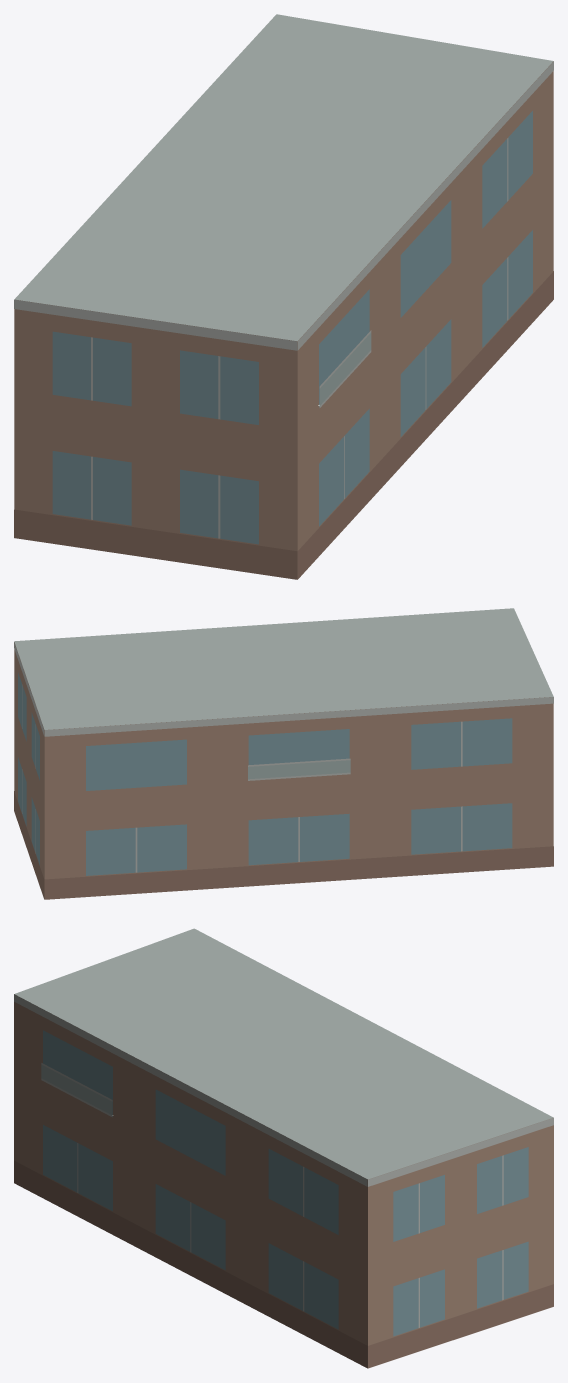
The model's file is survey-upis-32971139.glb.
3 views of the same model, one above another, from view 1: azimuth 30°, elevation 25°; view 2: azimuth 150°, elevation 25°; view 3: azimuth 270°, elevation 25° (orthographic). The views are drawn at different scales.
Parts seen in each view (by area): view 1: survey-upis-32971139.tmp; view 2: survey-upis-32971139.tmp; view 3: survey-upis-32971139.tmp.
Boxes of the visible parts, left/top/right/bottom form: survey-upis-32971139.tmp: left=14, top=14, right=553, bottom=579; survey-upis-32971139.tmp: left=14, top=608, right=553, bottom=899; survey-upis-32971139.tmp: left=14, top=928, right=553, bottom=1368.
Bounding box in the file's own units: 17.38 × 6.1 × 15.79.
